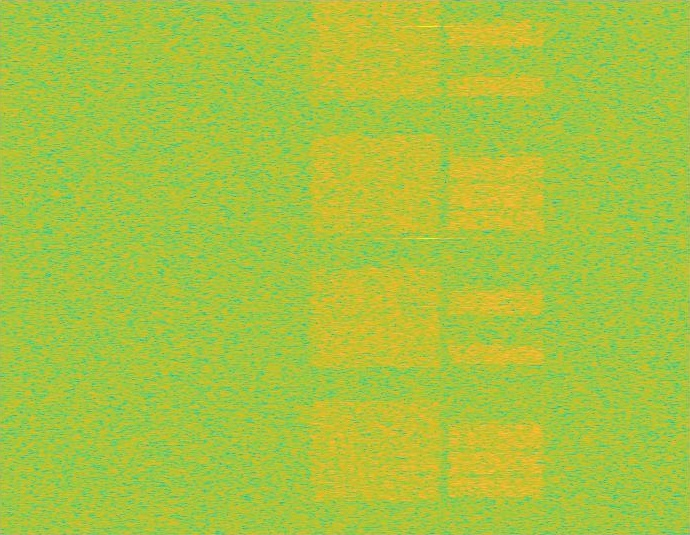5G: (307, 0, 445, 534)
LTE: (445, 0, 548, 534)
Radar: (421, 0, 435, 534)
